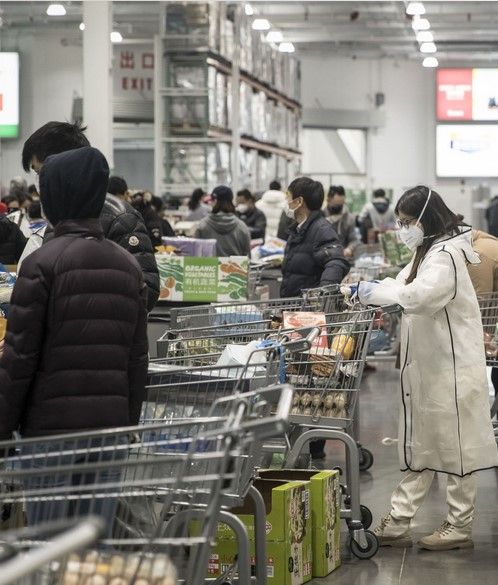face_with_mask: (393, 186, 444, 252), (281, 175, 323, 225)
